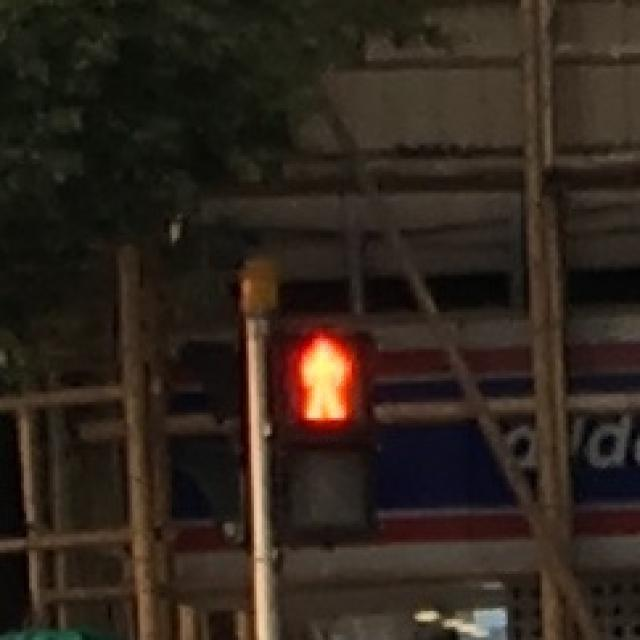red-crossing: (283, 327, 360, 427)
